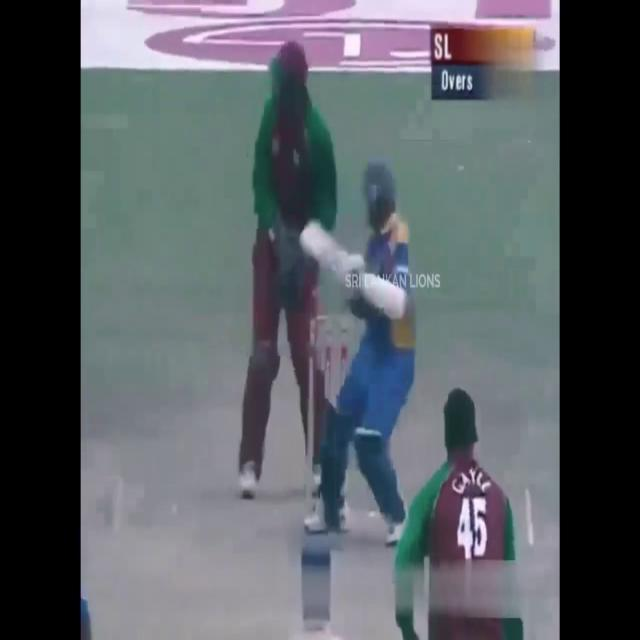Batsman: (292, 133, 427, 544)
